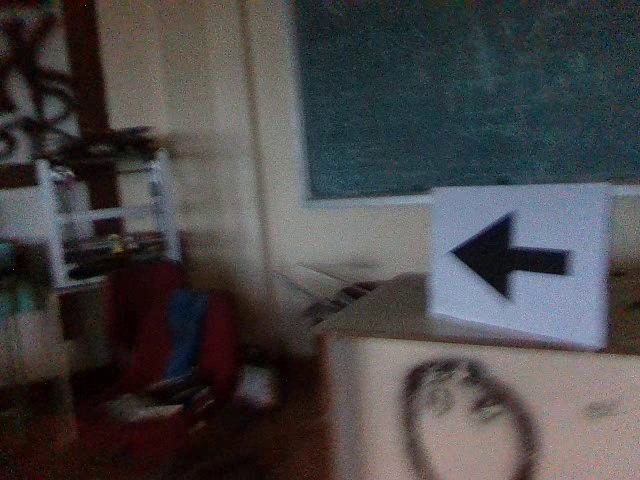Left: (443, 208, 573, 307)
